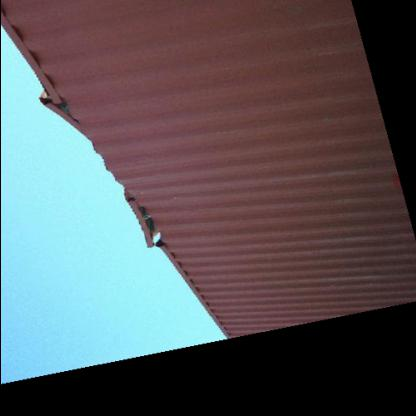Damage: (31, 78, 105, 156), (114, 178, 160, 256)
